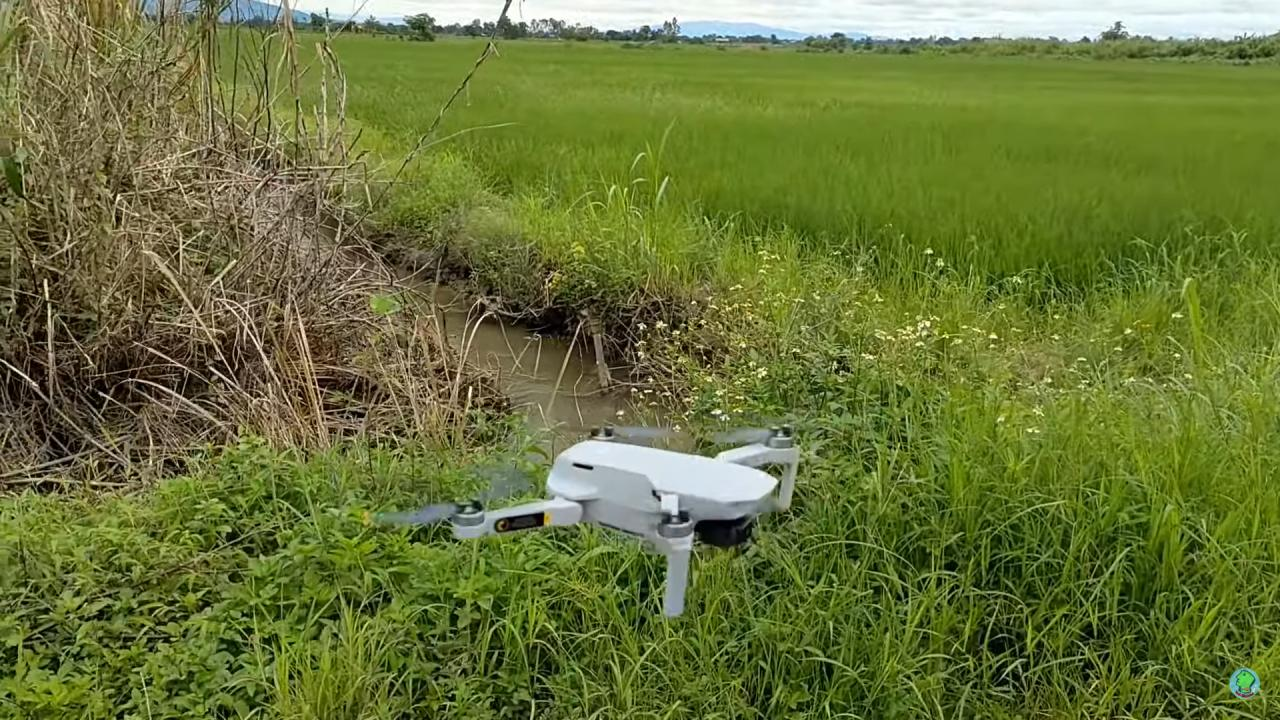Drone: (354, 408, 858, 638)
